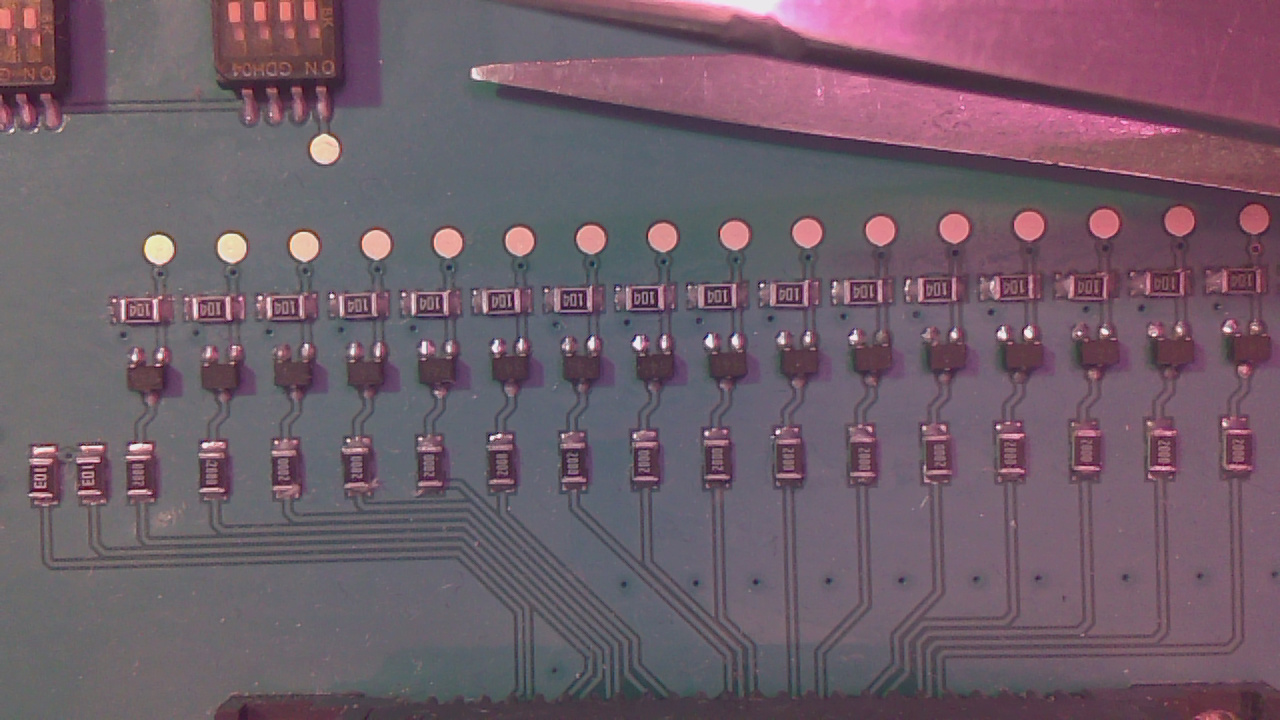Resistor: (116, 299, 170, 331), (851, 439, 884, 487), (1069, 275, 1120, 306), (1224, 266, 1272, 298), (188, 300, 242, 328), (707, 441, 737, 491), (127, 457, 159, 503), (778, 441, 810, 487), (1229, 433, 1260, 480), (480, 294, 532, 322), (996, 276, 1046, 305), (846, 278, 894, 308), (420, 446, 450, 494), (1157, 433, 1187, 481), (78, 459, 109, 505), (930, 437, 961, 483), (346, 449, 376, 496), (410, 296, 462, 323), (488, 448, 519, 493), (565, 445, 596, 490), (1145, 274, 1196, 301), (554, 290, 600, 319), (636, 446, 665, 492), (626, 287, 670, 317), (1081, 431, 1109, 478), (774, 286, 819, 315), (1003, 437, 1031, 482), (29, 462, 57, 506), (701, 287, 748, 313), (201, 451, 227, 498), (274, 452, 300, 499), (339, 296, 385, 322), (267, 300, 310, 327), (921, 280, 964, 307)
Transistor: (493, 340, 539, 398), (1155, 328, 1200, 386), (204, 351, 251, 406), (930, 333, 976, 388), (421, 346, 466, 402), (1083, 328, 1131, 380), (131, 353, 177, 407), (856, 333, 902, 387), (1006, 335, 1052, 389), (640, 339, 683, 396), (349, 344, 389, 405), (710, 337, 754, 392), (1232, 324, 1275, 380), (277, 349, 322, 402), (564, 343, 609, 396), (783, 334, 826, 388)
